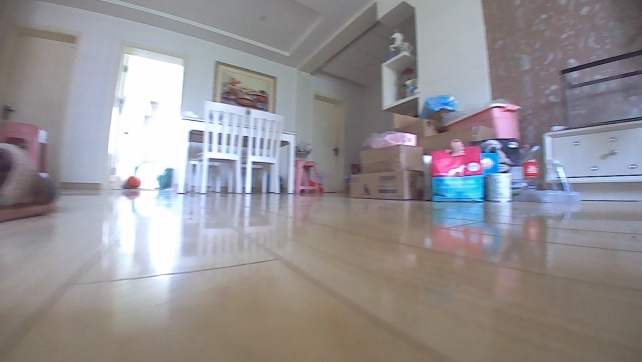dining_table: (165, 99, 298, 197)
door_anno: (0, 20, 83, 194), (309, 89, 348, 198)
